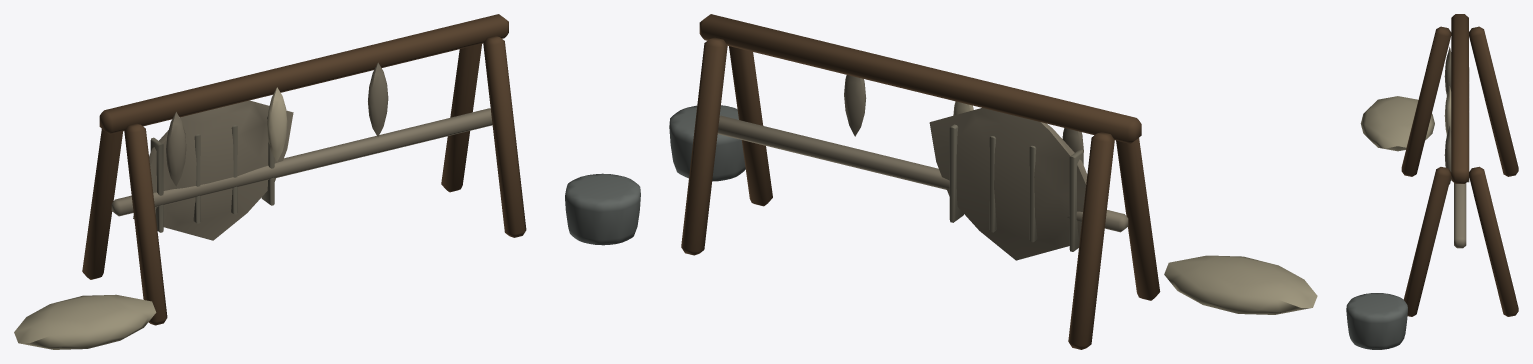
Rendered from fish_rack_b.glb.
3 views of the same model, side by side, from view 1: azimuth 30°, elevation 25°; view 2: azimuth 150°, elevation 25°; view 3: azimuth 270°, elevation 25° (orthographic). The views are drawn at different scales.
Parts seen in each view (by area): view 1: Surface; view 2: Surface; view 3: Surface.
Boxes of the visible parts, <box> form: Surface: <box>14,14,640,349</box>; Surface: <box>669,14,1317,349</box>; Surface: <box>1346,14,1518,349</box>.
Bounding box in the file's own units: 5.39 × 1.64 × 1.66.
